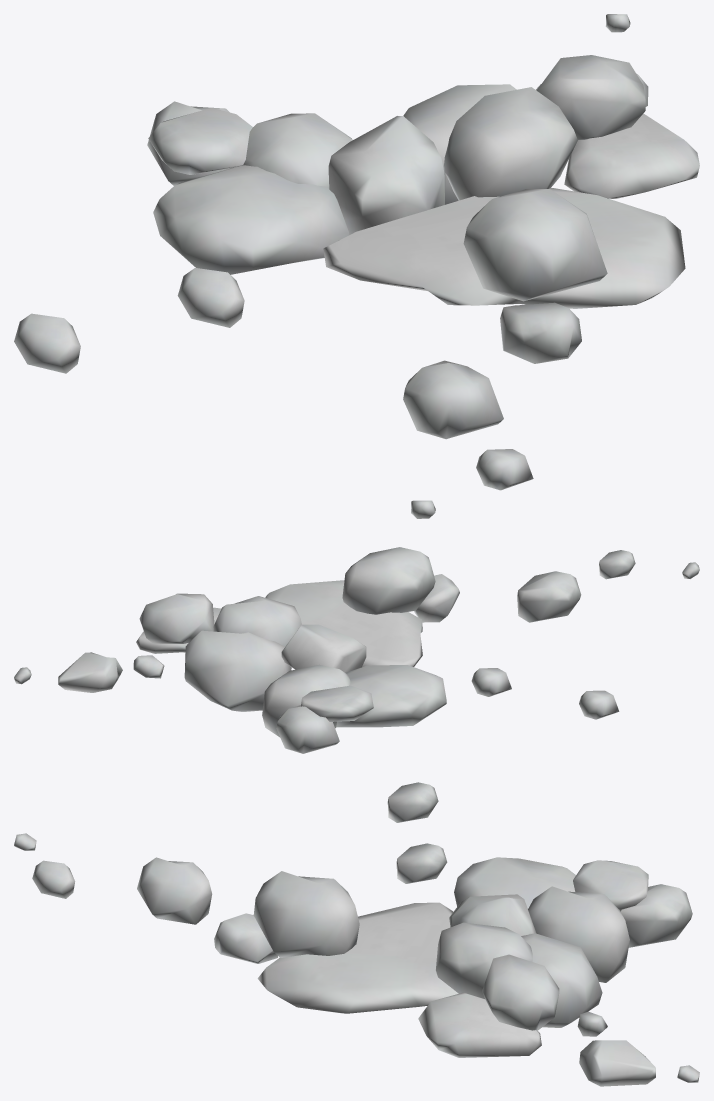
Rendered from snowballs_c.glb.
The picture shows the model from 3 angles, top to bottom: view 1: azimuth 30°, elevation 25°; view 2: azimuth 150°, elevation 25°; view 3: azimuth 270°, elevation 25°; orthographic projection. The views are drawn at different scales.
Visible parts, largest first — view 1: snowballs_c_LOD0; view 2: snowballs_c_LOD0; view 3: snowballs_c_LOD0.
Boxes of the visible parts, box(x1,y1,x2,y2) form: snowballs_c_LOD0: box(14, 14, 699, 518); snowballs_c_LOD0: box(14, 547, 699, 753); snowballs_c_LOD0: box(14, 782, 699, 1086).
Bounding box in the file's own units: 3.42 × 0.6006 × 3.45.
Materials: 1 (1 with a texture image).
